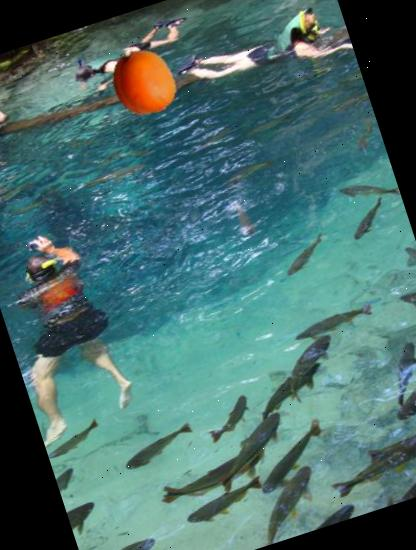Apricot: (99, 38, 186, 125)
